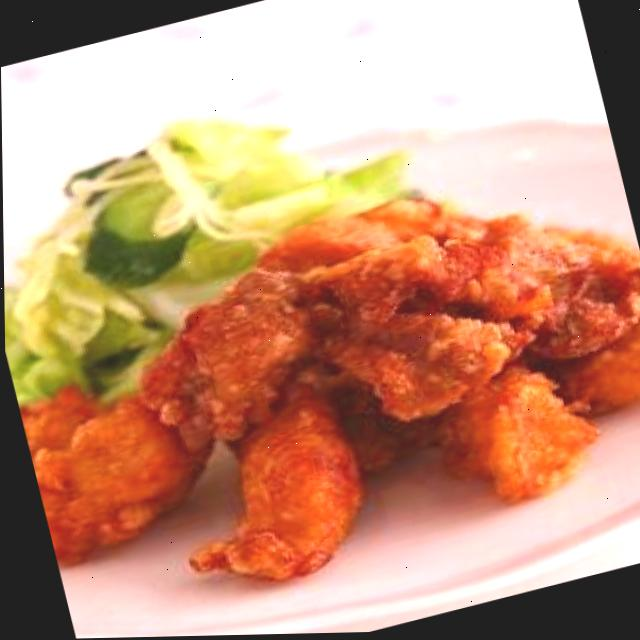鸡肉料理 含炸鸡: (1, 36, 640, 640)
